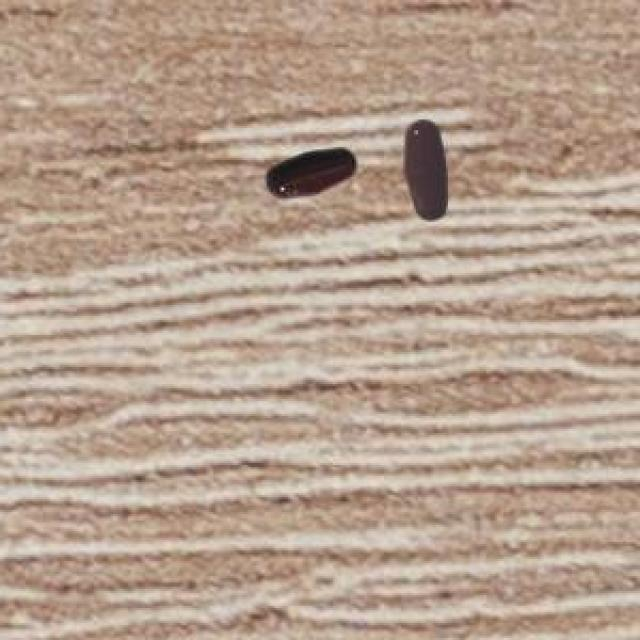DayZinc: (254, 134, 365, 213), (399, 103, 460, 237)
